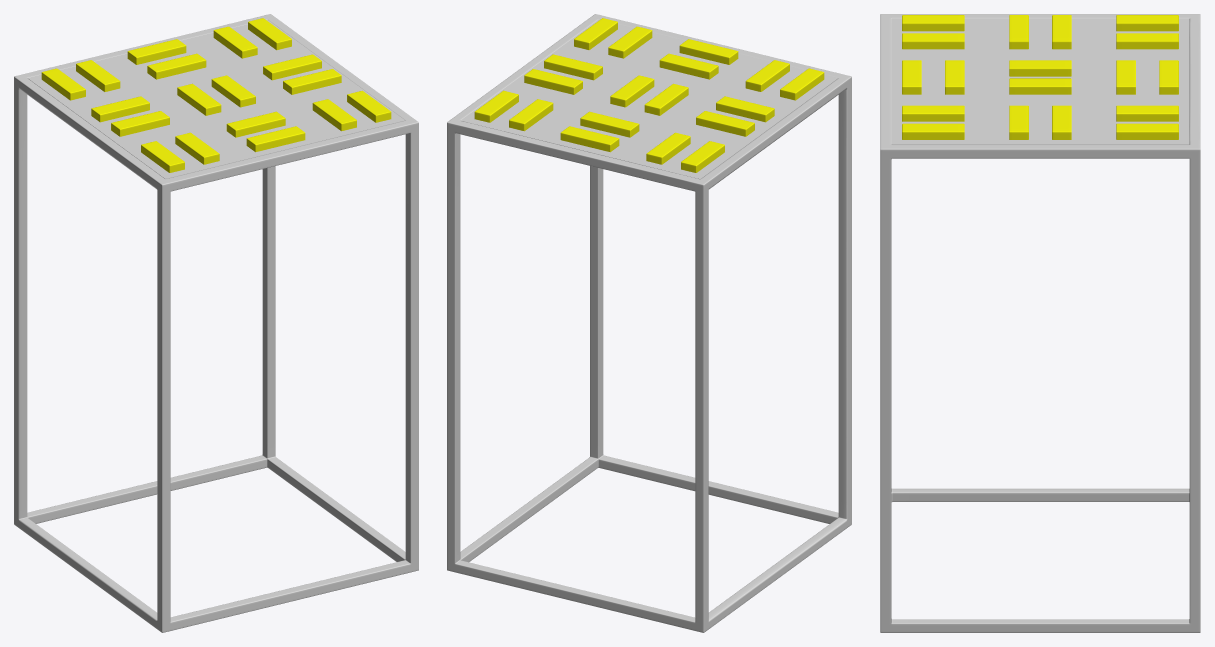
File: Feet_SteelFrame_03.gltf
The picture shows the model from 3 angles, left to right: view 1: azimuth 30°, elevation 25°; view 2: azimuth 150°, elevation 25°; view 3: azimuth 270°, elevation 25°; orthographic projection. The views are drawn at different scales.
Parts seen in each view (by area): view 1: polySurface17, polySurface18, polySurface21, polySurface2, polySurface3, polySurface13, polySurface5, polySurface20, polySurface4, polySurface14, polySurface12, polySurface8 (+8 smaller); view 2: polySurface17, polySurface18, polySurface3, polySurface13, polySurface2, polySurface21, polySurface14, polySurface4, polySurface20, polySurface5, polySurface7, polySurface8 (+8 smaller); view 3: polySurface17, polySurface18, polySurface8, polySurface10, polySurface11, polySurface16, polySurface19, polySurface7, polySurface12, polySurface15, polySurface1, polySurface6 (+8 smaller).
Part boxes in pixels (bbox=[...]): polySurface17: bbox=[14, 14, 418, 632]; polySurface18: bbox=[27, 19, 404, 178]; polySurface21: bbox=[127, 39, 186, 64]; polySurface2: bbox=[226, 111, 285, 137]; polySurface3: bbox=[147, 53, 206, 79]; polySurface13: bbox=[246, 126, 305, 152]; polySurface5: bbox=[263, 54, 321, 80]; polySurface20: bbox=[91, 96, 149, 122]; polySurface4: bbox=[283, 69, 341, 94]; polySurface14: bbox=[111, 111, 169, 136]; polySurface12: bbox=[213, 26, 257, 58]; polySurface8: bbox=[211, 75, 255, 107]; polySurface17: bbox=[447, 14, 851, 632]; polySurface18: bbox=[460, 19, 837, 179]; polySurface3: bbox=[580, 111, 639, 137]; polySurface13: bbox=[679, 39, 738, 64]; polySurface2: bbox=[659, 53, 718, 79]; polySurface21: bbox=[560, 126, 619, 152]; polySurface14: bbox=[716, 96, 774, 122]; polySurface4: bbox=[544, 54, 602, 80]; polySurface20: bbox=[696, 111, 754, 136]; polySurface5: bbox=[524, 69, 582, 94]; polySurface7: bbox=[608, 26, 652, 58]; polySurface8: bbox=[610, 75, 654, 107]; polySurface17: bbox=[880, 14, 1200, 632]; polySurface18: bbox=[891, 18, 1189, 144]; polySurface8: bbox=[1009, 78, 1071, 94]; polySurface10: bbox=[1116, 15, 1178, 31]; polySurface11: bbox=[1009, 60, 1071, 76]; polySurface16: bbox=[902, 33, 964, 49]; polySurface19: bbox=[1116, 33, 1178, 49]; polySurface7: bbox=[902, 105, 964, 121]; polySurface12: bbox=[1116, 105, 1178, 121]; polySurface15: bbox=[902, 15, 964, 31]; polySurface1: bbox=[1116, 123, 1178, 139]; polySurface6: bbox=[902, 123, 964, 139].
Size of the model in its own units: 0.36 by 0.6101 by 0.36.
3 materials, 1 textured.
